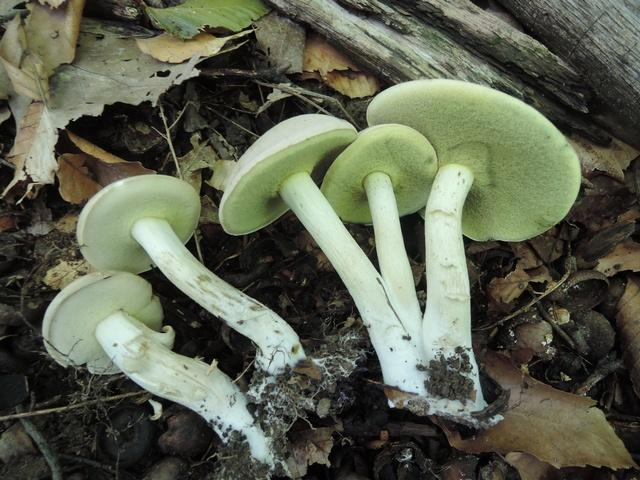Edible Mushroom: (220, 77, 581, 420), (41, 169, 313, 444)
